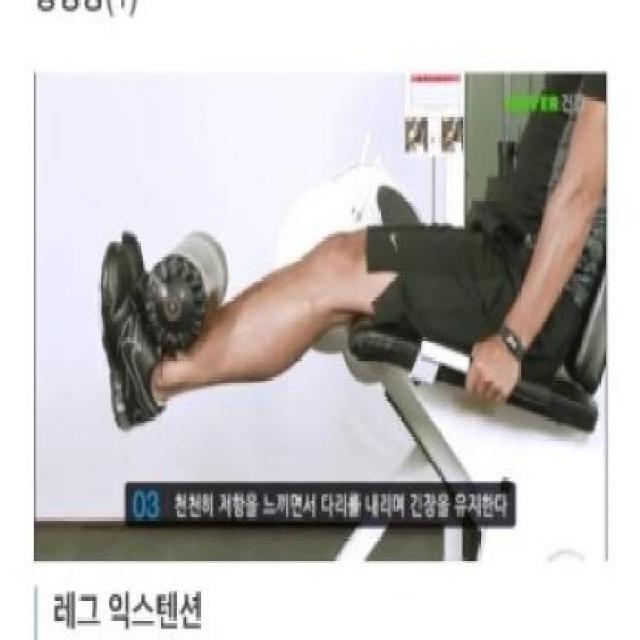leg extension: (84, 72, 610, 568)
